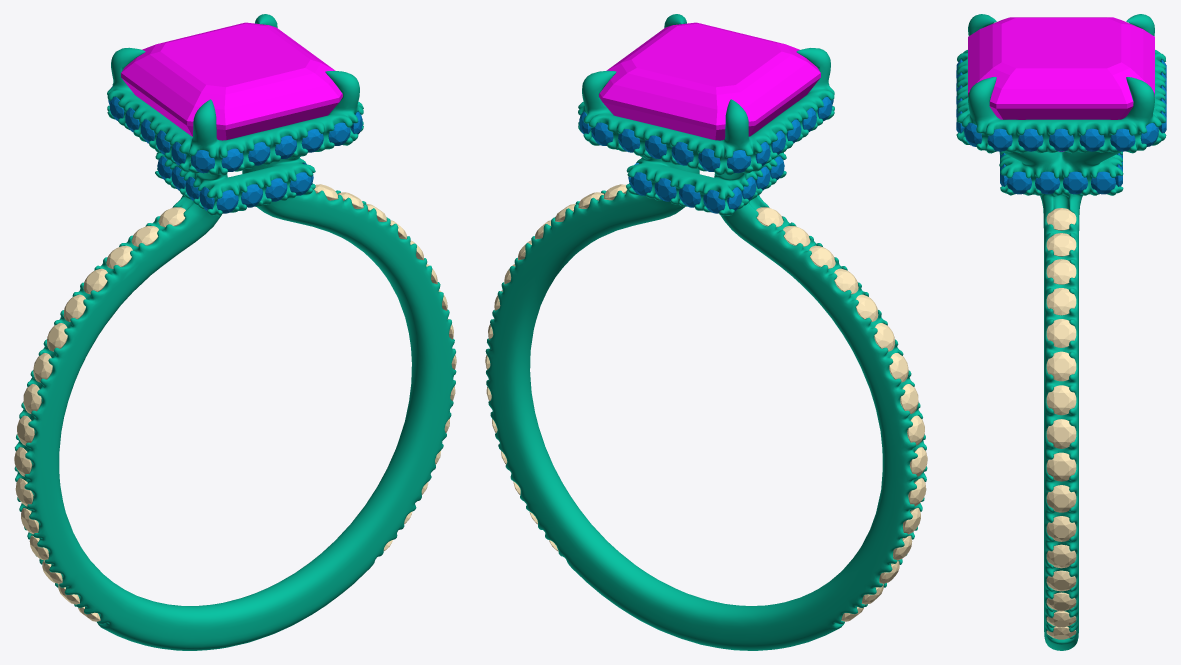
Rendered from BE1D6362P_AS_200ct_RENDER.glb.
3 renders of one model, left to right at view 1: azimuth 30°, elevation 25°; view 2: azimuth 150°, elevation 25°; view 3: azimuth 270°, elevation 25°, orthographic.
Parts seen in each view (by area): view 1: Metal 01, CS_Diamond_Asscher; view 2: Metal 01, CS_Diamond_Asscher; view 3: Metal 01, CS_Diamond_Asscher, Diamond_Round_Gem_SH.007, Diamond_Round_Gem_SH.006, Diamond_Round_Gem_SH.005, Diamond_Round_Gem_SH.008, Diamond_Round_Gem_SH.004, Diamond_Round_Gem_SH.009, Diamond_Round_Gem_SH.003, Diamond_Round_Gem_SH.010, Diamond_Round_Gem_SH.002, Diamond_Round_Gem_SH.011 (+14 smaller).
Boxes of the visible parts, x1,y1,x2,y2 form: Metal 01: (14,14,456,650); CS_Diamond_Asscher: (121,22,342,140); Metal 01: (485,14,927,650); CS_Diamond_Asscher: (599,22,820,140); Metal 01: (956,14,1166,650); CS_Diamond_Asscher: (968,17,1154,151); Diamond_Round_Gem_SH.007: (1046,419,1076,448); Diamond_Round_Gem_SH.006: (1046,385,1076,415); Diamond_Round_Gem_SH.005: (1046,351,1076,381); Diamond_Round_Gem_SH.008: (1046,452,1076,481); Diamond_Round_Gem_SH.004: (1046,319,1076,347); Diamond_Round_Gem_SH.009: (1046,485,1076,512); Diamond_Round_Gem_SH.003: (1046,288,1076,315); Diamond_Round_Gem_SH.010: (1046,516,1076,541); Diamond_Round_Gem_SH.002: (1046,259,1076,284); Diamond_Round_Gem_SH.011: (1046,544,1076,568).
Size of the model in its own units: 19.99 by 25.84 by 8.42.
